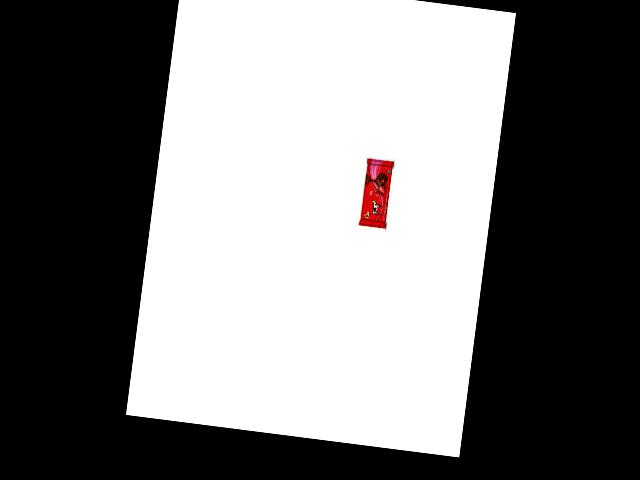chocolate: (358, 157, 399, 234)
